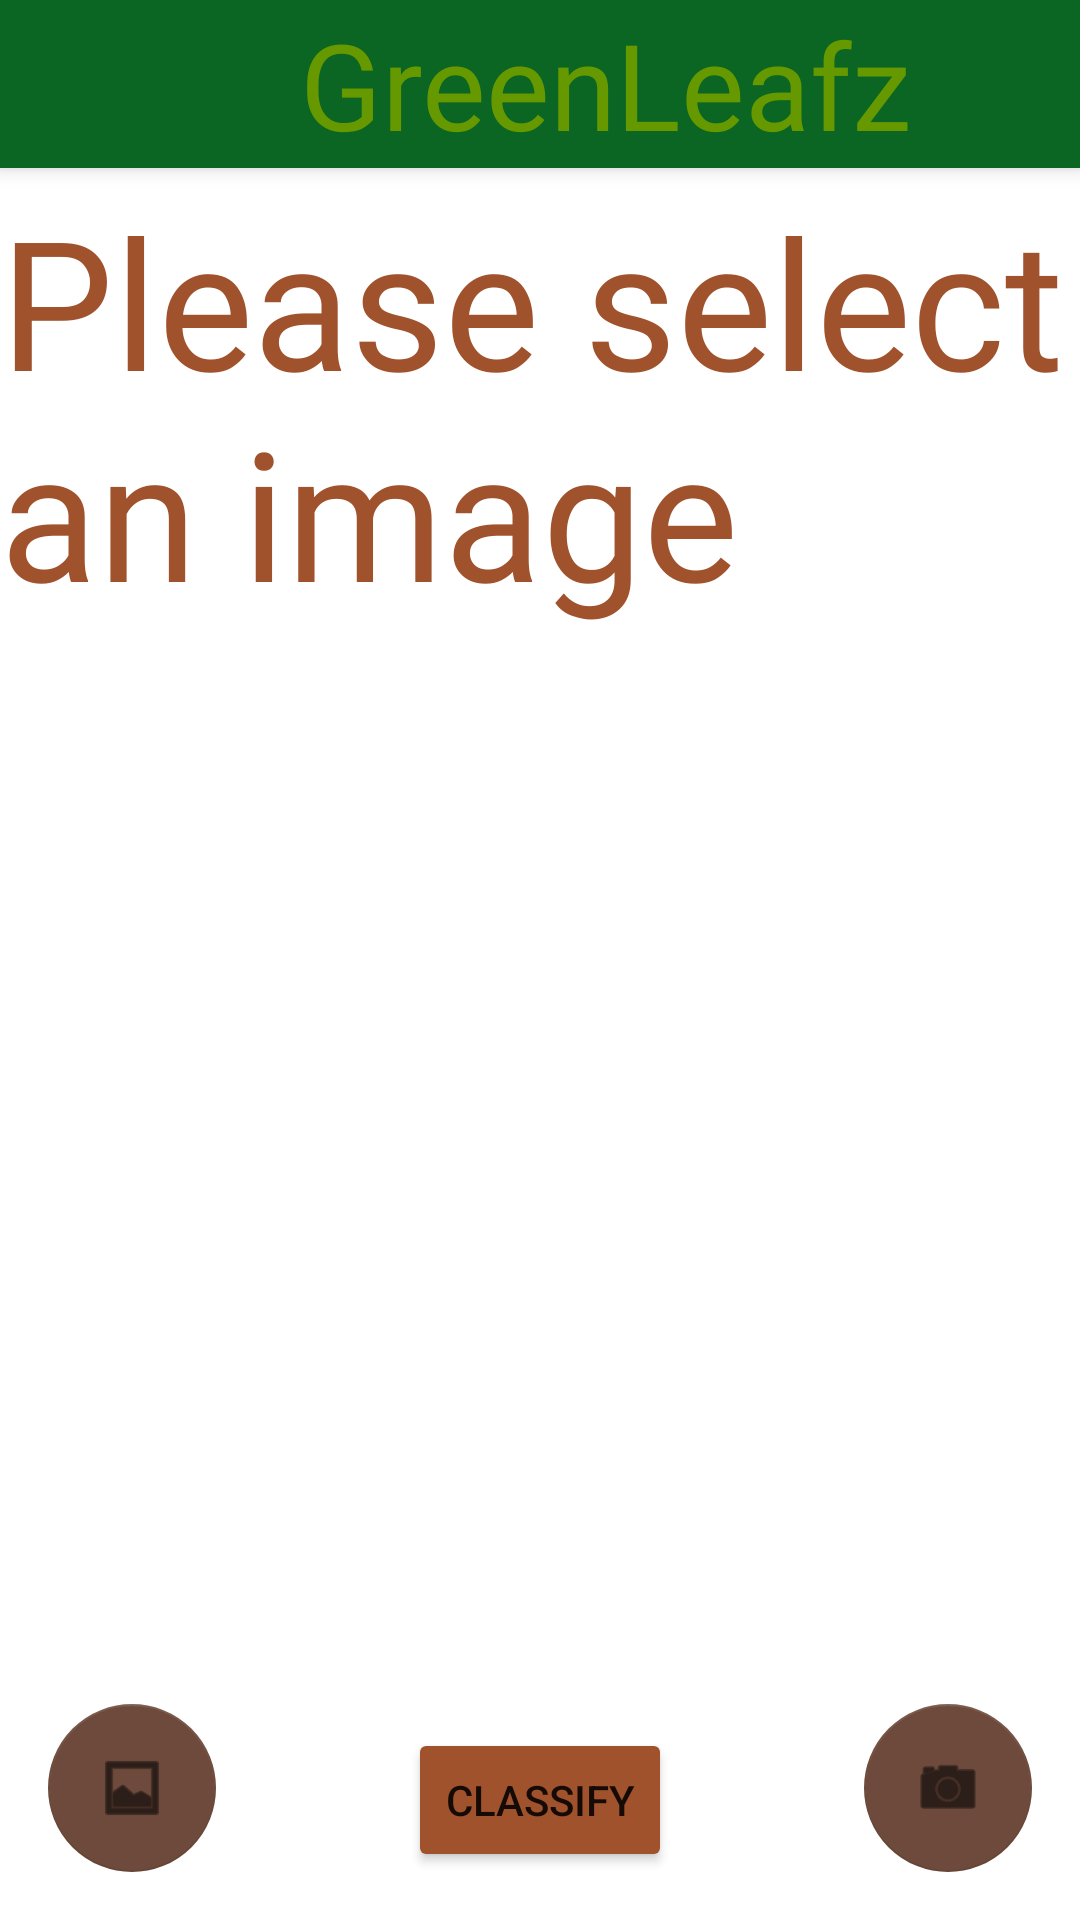

Where icons sit on this 1080x1920 app screen, as (x1, y1, x2, y2):
camera: (864, 1704, 1032, 1872)
gallery: (48, 1704, 216, 1872)
